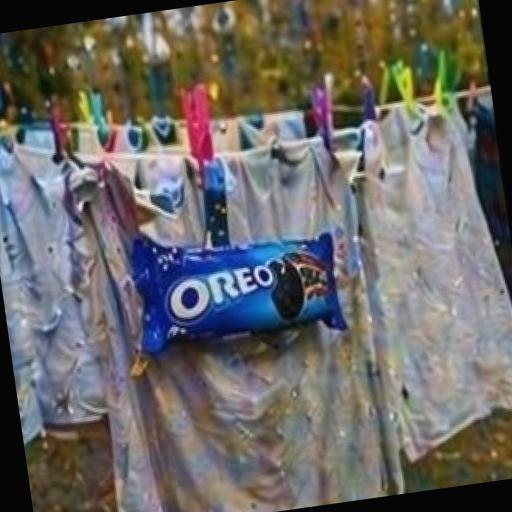oreo: (52, 124, 420, 424)
